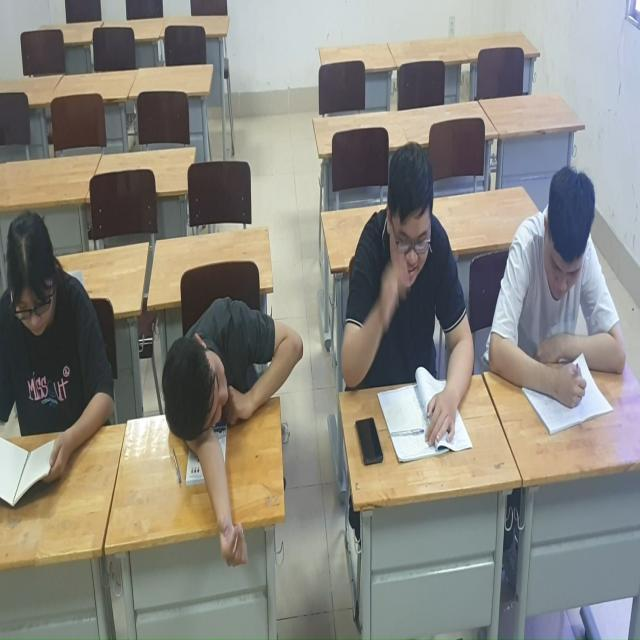sleep: (163, 300, 302, 545)
study: (337, 145, 473, 437), (0, 212, 115, 500), (488, 168, 623, 407)
